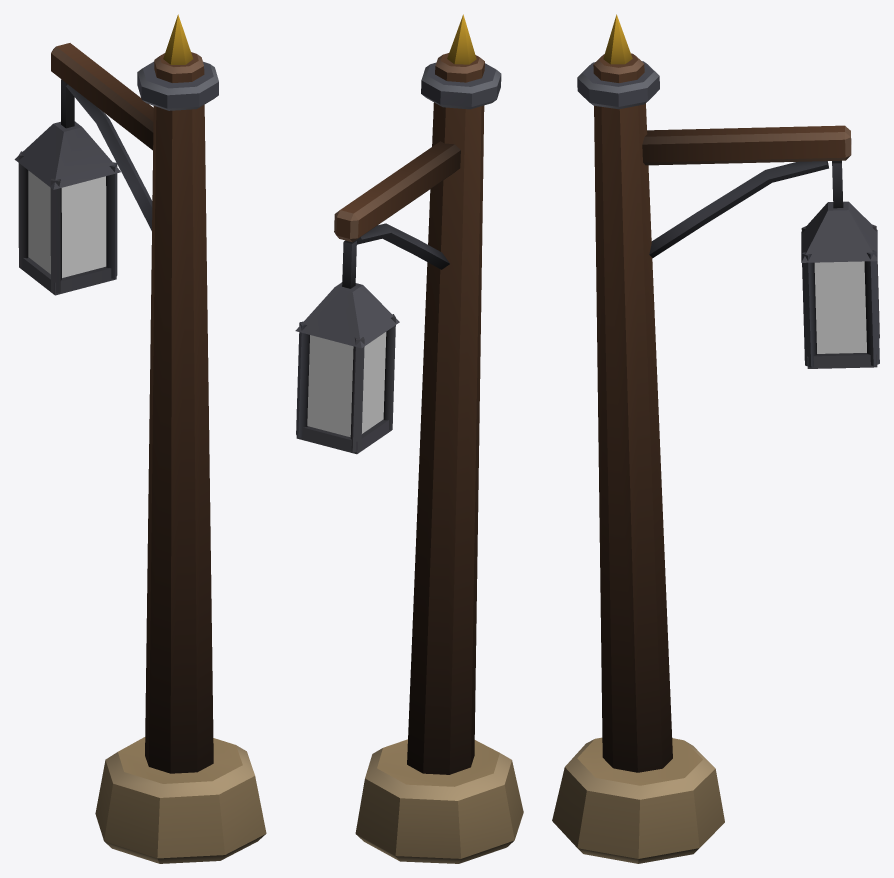
The model's file is HD_LanternPost.fbx.
3 renders of one model, left to right at view 1: azimuth 30°, elevation 25°; view 2: azimuth 150°, elevation 25°; view 3: azimuth 270°, elevation 25°, orthographic. The views are drawn at different scales.
Parts seen in each view (by area): view 1: HD_LanternPost_2_Wood, HD_LanternPost_1_Sandstone, HD_LanternPost_3_Metal, HD_LanternPost_4_Neon; view 2: HD_LanternPost_2_Wood, HD_LanternPost_1_Sandstone, HD_LanternPost_3_Metal, HD_LanternPost_4_Neon; view 3: HD_LanternPost_2_Wood, HD_LanternPost_1_Sandstone, HD_LanternPost_3_Metal, HD_LanternPost_4_Neon.
Boxes of the visible parts, x1,y1,x2,y2 form: HD_LanternPost_2_Wood: (51, 43, 213, 773); HD_LanternPost_1_Sandstone: (95, 737, 266, 863); HD_LanternPost_3_Metal: (14, 14, 218, 295); HD_LanternPost_4_Neon: (28, 170, 106, 277); HD_LanternPost_2_Wood: (334, 53, 484, 774); HD_LanternPost_1_Sandstone: (355, 739, 523, 863); HD_LanternPost_3_Metal: (295, 14, 501, 454); HD_LanternPost_4_Neon: (307, 332, 386, 437); HD_LanternPost_2_Wood: (593, 53, 851, 772); HD_LanternPost_1_Sandstone: (552, 737, 724, 863); HD_LanternPost_3_Metal: (577, 14, 879, 368); HD_LanternPost_4_Neon: (814, 261, 866, 353).
Bounding box in the file's own units: 1.76 × 9.11 × 3.34.
